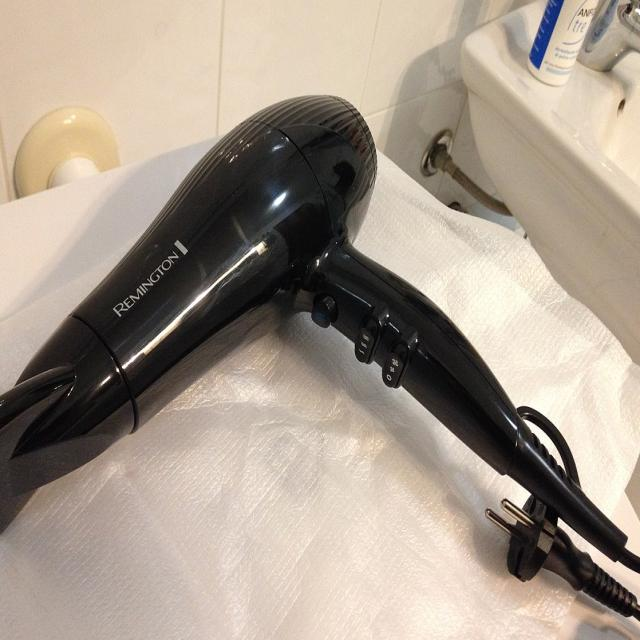dryer: (0, 92, 628, 564)
